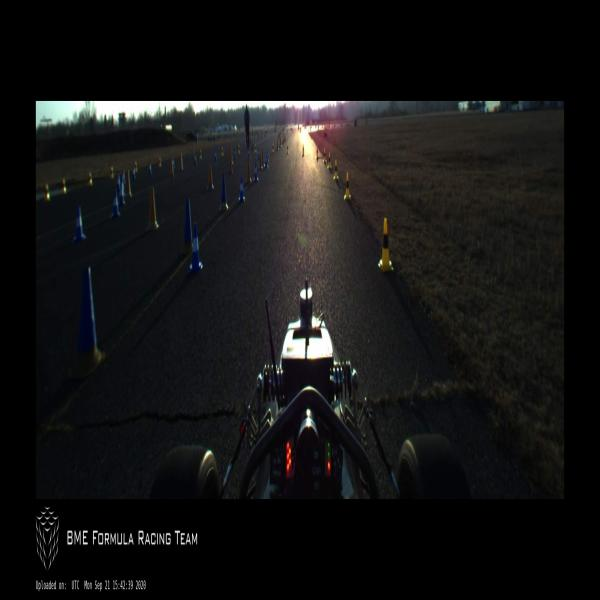blue_cone: (188, 222, 204, 274), (72, 206, 87, 244), (111, 190, 120, 218), (238, 176, 246, 202), (120, 176, 126, 196), (120, 186, 125, 205), (254, 162, 258, 182), (121, 169, 126, 183), (264, 154, 268, 168), (132, 166, 136, 180), (117, 174, 120, 192), (148, 163, 152, 176), (172, 157, 176, 169), (194, 152, 197, 165), (214, 150, 217, 162), (257, 149, 260, 160), (266, 150, 268, 162), (234, 148, 236, 159), (248, 149, 250, 159)
unknown_cone: (68, 266, 107, 383), (180, 198, 194, 257), (145, 187, 159, 232), (219, 173, 229, 212), (207, 162, 214, 189), (245, 160, 252, 186), (169, 158, 176, 181), (228, 153, 234, 175), (179, 153, 184, 172), (258, 150, 263, 169), (276, 138, 279, 151), (228, 144, 230, 152)
yellow_cone: (378, 218, 394, 272), (344, 172, 352, 202), (44, 185, 50, 202), (334, 159, 338, 181), (328, 152, 332, 170), (88, 172, 93, 186), (62, 178, 66, 194), (110, 167, 114, 178), (134, 162, 138, 173), (158, 157, 162, 168), (323, 148, 326, 162), (286, 143, 289, 154), (199, 149, 202, 160), (221, 146, 224, 157), (254, 144, 257, 153), (316, 147, 318, 159), (302, 144, 304, 156), (238, 144, 240, 156), (272, 144, 274, 154)
